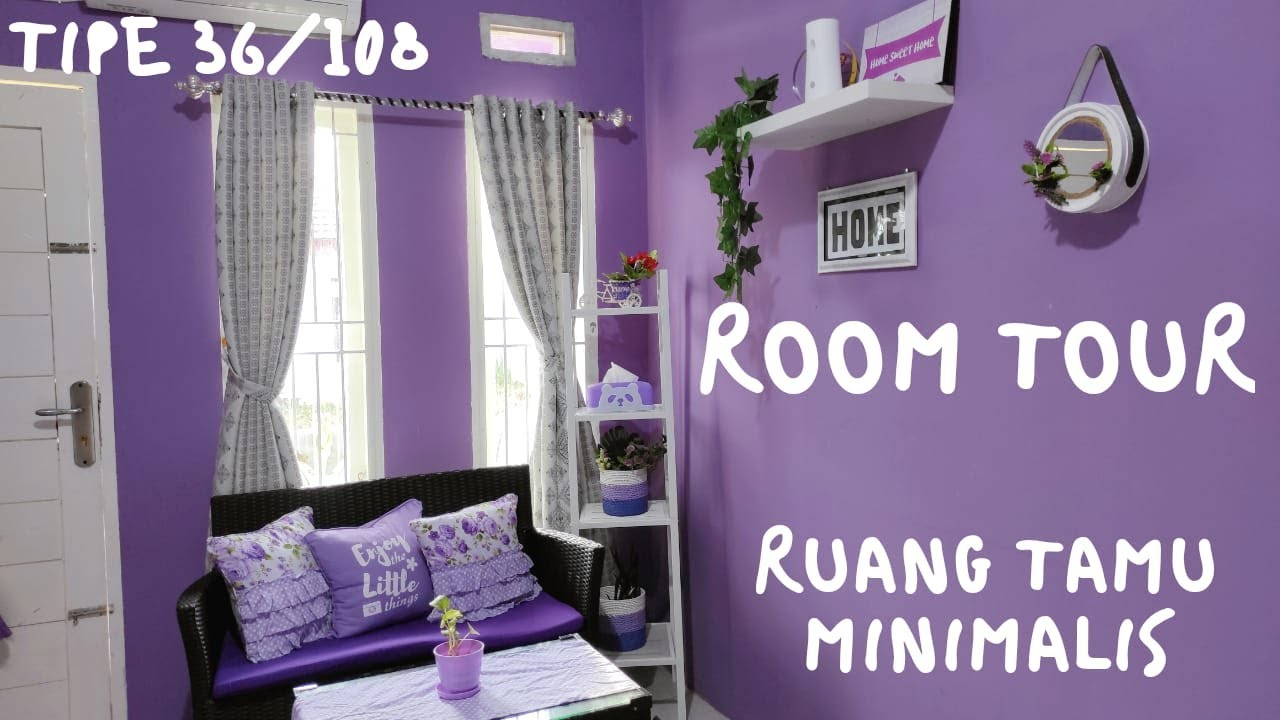Bantal: (204, 509, 332, 656), (410, 494, 555, 610), (314, 499, 430, 629)
Tanaman: (687, 62, 785, 330), (419, 589, 487, 705), (585, 426, 668, 517)
Tisu: (579, 357, 655, 413)
kursi: (173, 465, 607, 650)
meja: (268, 630, 652, 720)
